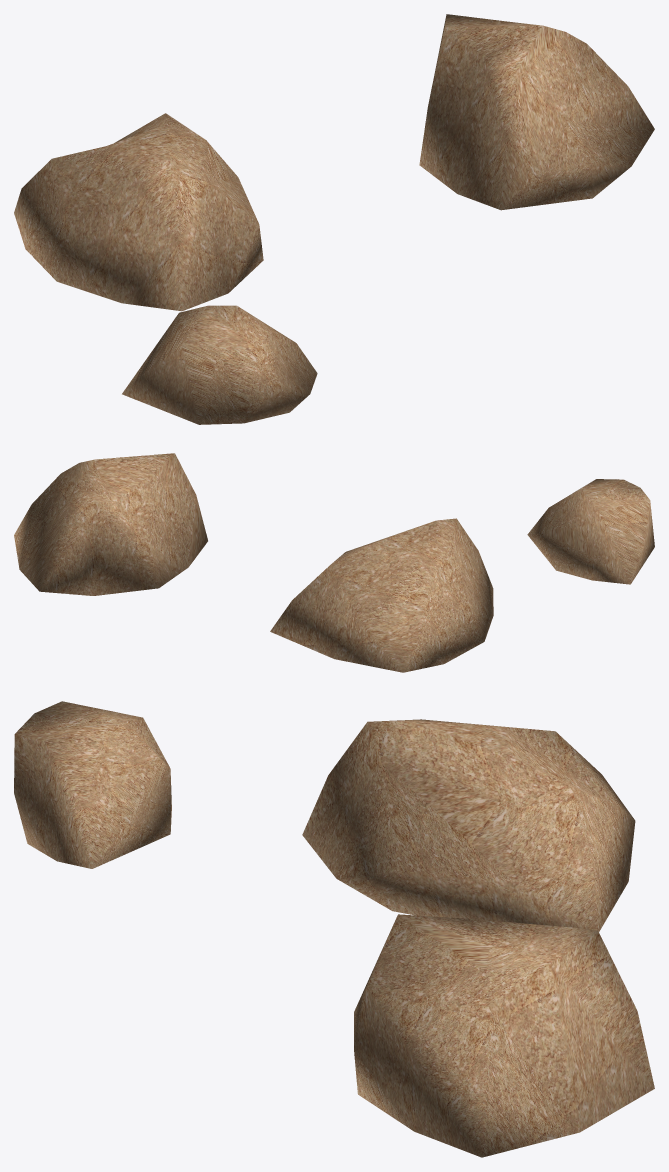
File: rock_pebbleclump_a2_l1.fbx
3 renders of one model, top to bottom at view 1: azimuth 30°, elevation 25°; view 2: azimuth 150°, elevation 25°; view 3: azimuth 270°, elevation 25°, orthographic. The views are drawn at different scales.
Visible parts, largest first — view 1: mesh_node; view 2: mesh_node; view 3: mesh_node.
Boxes of the visible parts, x1=… form: mesh_node: x1=14, y1=14, x2=654, y2=424; mesh_node: x1=14, y1=453, x2=654, y2=672; mesh_node: x1=14, y1=701, x2=654, y2=1157.
Bounding box in the file's own units: 1.01 × 0.19 × 0.7151.
